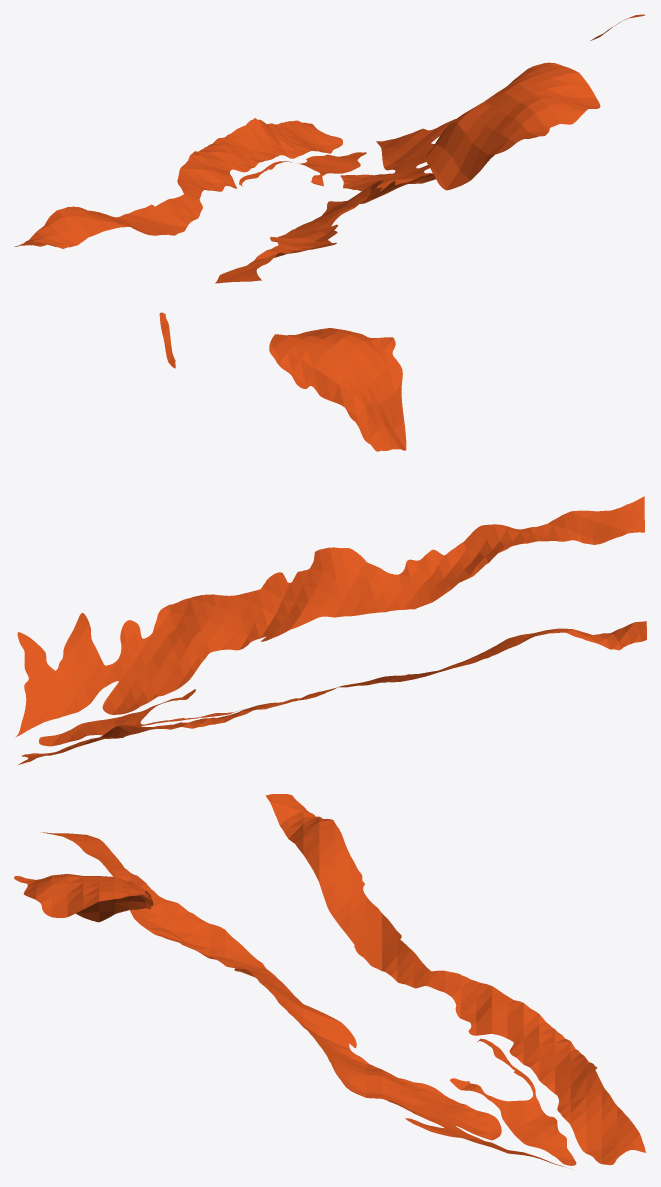
Rendered from 7_Ribbons 2 (5).dae.
The picture shows the model from 3 angles, top to bottom: view 1: azimuth 30°, elevation 25°; view 2: azimuth 150°, elevation 25°; view 3: azimuth 270°, elevation 25°; orthographic projection. The views are drawn at different scales.
Visible parts, largest first — view 1: Object (×4); view 2: Object (×4); view 3: Object (×4).
Part boxes in pixels (x1=…): Object (×4): x1=14, y1=62, x2=600, y2=283; Object (×4): x1=15, y1=328, x2=646, y2=764; Object (×4): x1=14, y1=794, x2=646, y2=1169.
Bounding box in the file's own units: 36.96 × 16.82 × 34.75.
